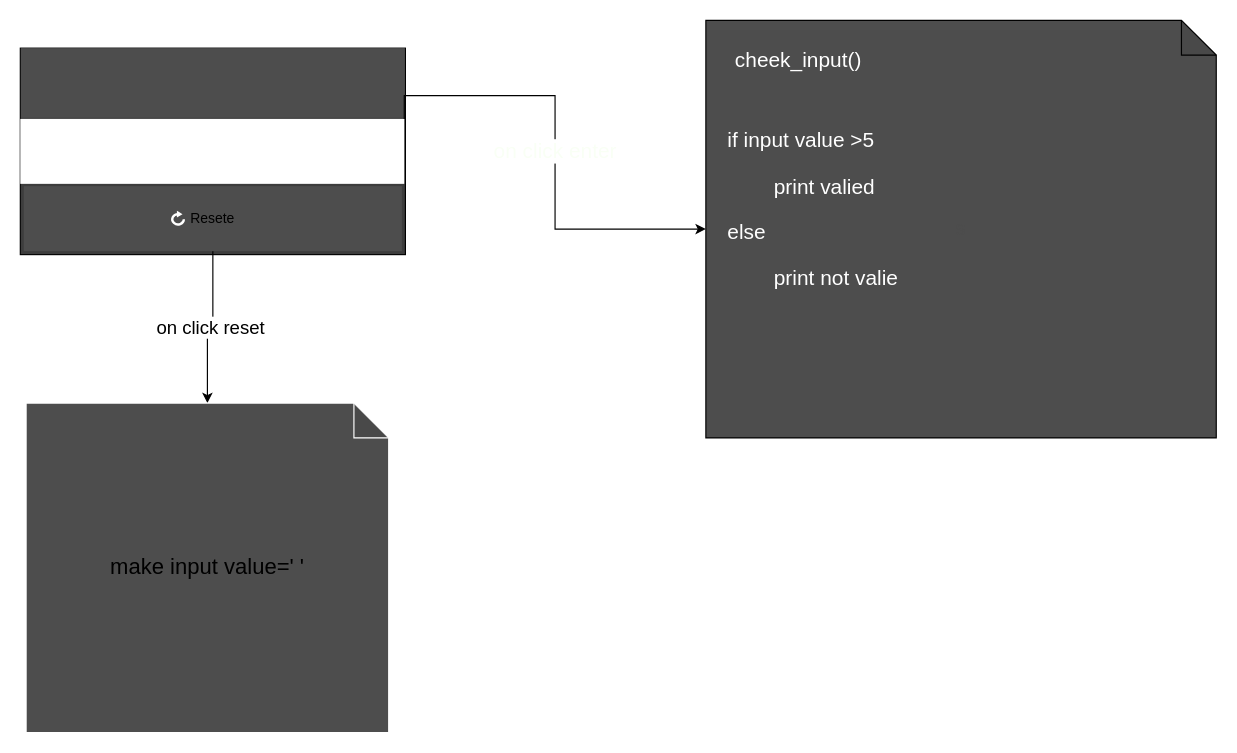
Image size: 1237x753. Some labels were removed from this diagram. Each missing label, with the centre of its shape:
"placholder" goes at point (212, 150).
"Title" goes at point (212, 82).
